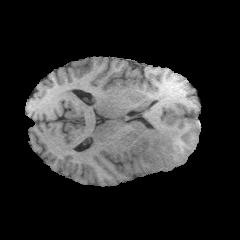glioma: (128, 107, 182, 170)
